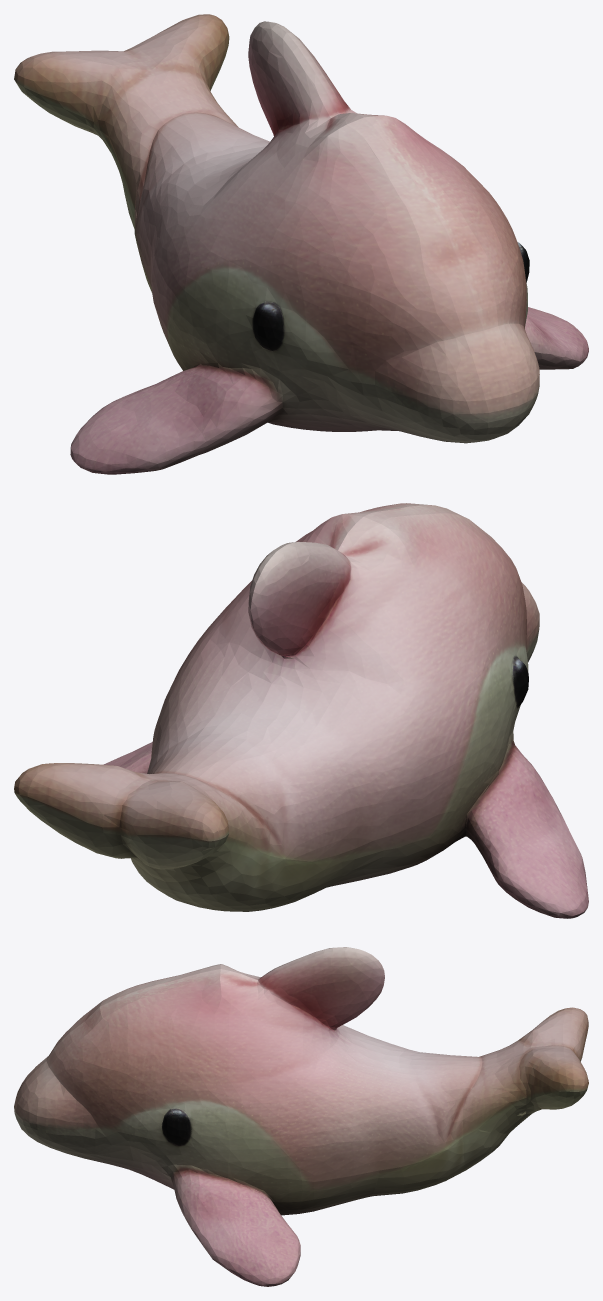
The model's file is dolphin_AI.glb.
The picture shows the model from 3 angles, top to bottom: view 1: azimuth 30°, elevation 25°; view 2: azimuth 150°, elevation 25°; view 3: azimuth 270°, elevation 25°; orthographic projection. The views are drawn at different scales.
Parts seen in each view (by area): view 1: world; view 2: world; view 3: world.
Boxes of the visible parts, x1,y1,x2,y2 form: world: (14,14,588,474); world: (14,503,588,918); world: (14,947,588,1286).
Bounding box in the file's own units: 0.7448 × 0.4857 × 1.
1 material, 1 textured.
